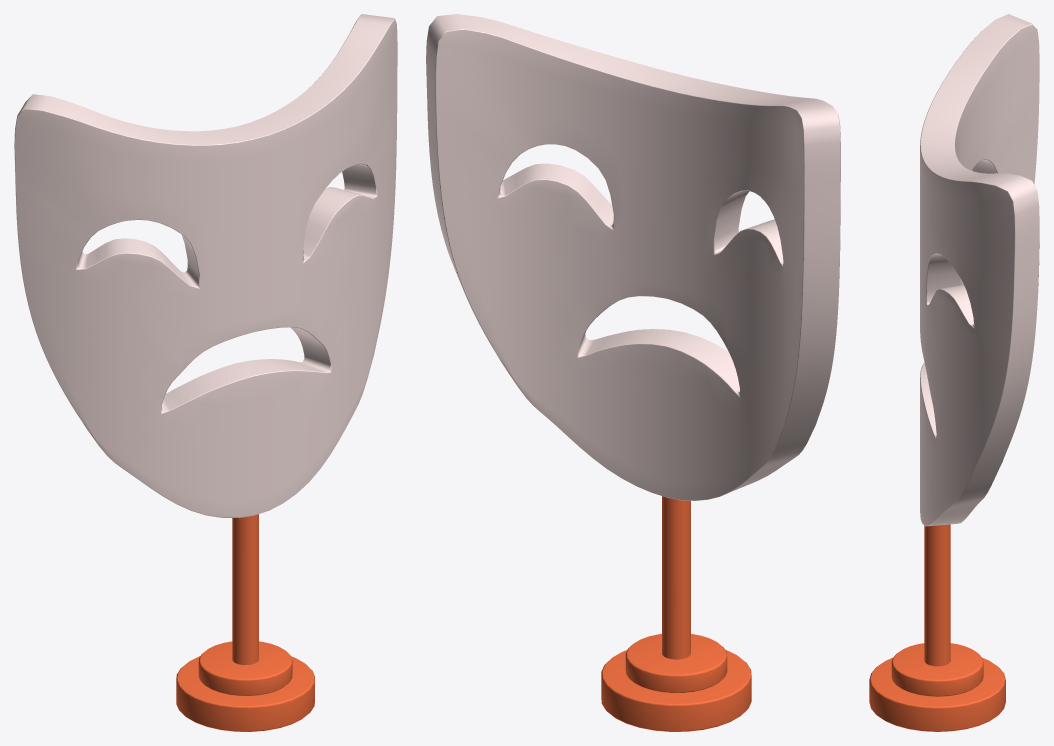
File: Public_12_Decor_Mask_Ttheatre_2.glb
The picture shows the model from 3 angles, left to right: view 1: azimuth 30°, elevation 25°; view 2: azimuth 150°, elevation 25°; view 3: azimuth 270°, elevation 25°; orthographic projection. The views are drawn at different scales.
Visible parts, largest first — view 1: Public_12_Decor_Mask_Ttheatre_2; view 2: Public_12_Decor_Mask_Ttheatre_2; view 3: Public_12_Decor_Mask_Ttheatre_2.
Part boxes in pixels (x1,y1,x2,y2): Public_12_Decor_Mask_Ttheatre_2: (14, 14, 397, 731); Public_12_Decor_Mask_Ttheatre_2: (426, 14, 840, 731); Public_12_Decor_Mask_Ttheatre_2: (869, 14, 1039, 731).
Size of the model in its own units: 1.95 by 2.99 by 0.7666.
1 material, 1 textured.
